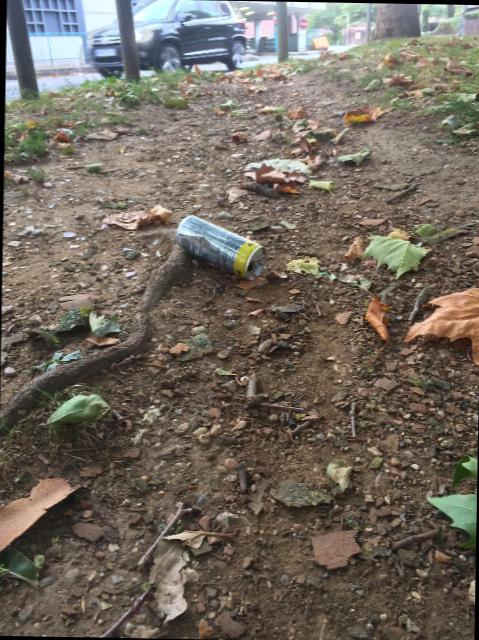metal: (174, 215, 265, 278)
